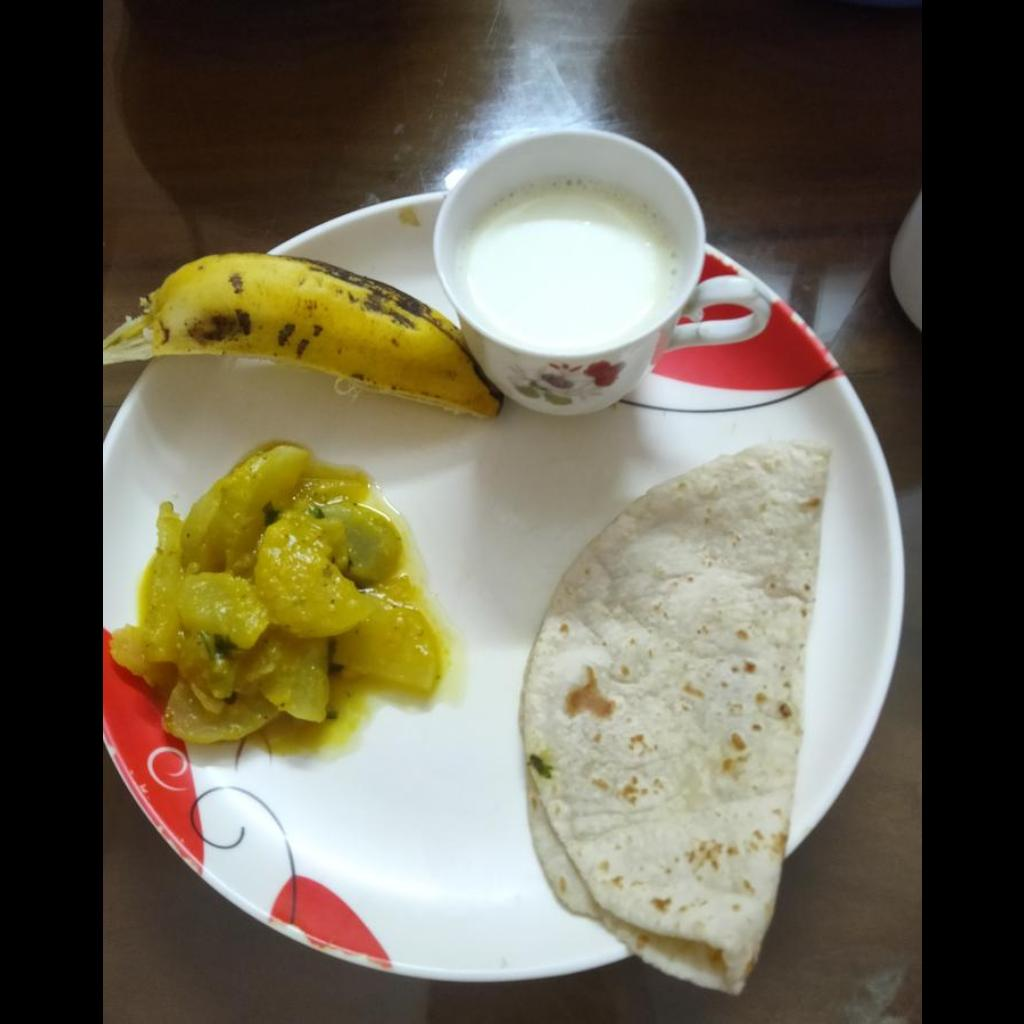banana: (148, 252, 493, 417)
milk: (465, 183, 664, 345)
ruti: (518, 444, 830, 998)
vaji: (110, 446, 443, 738)
